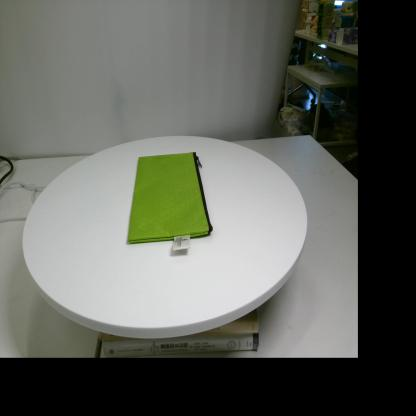Stationery: (127, 152, 213, 251)
